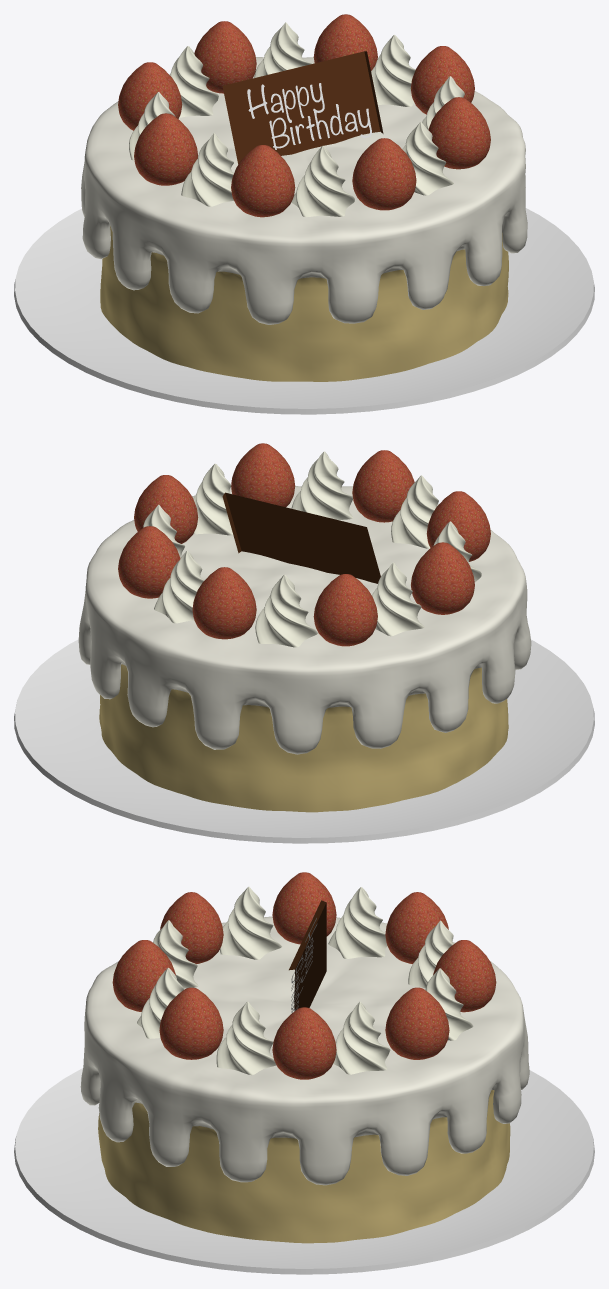
The picture shows the model from 3 angles, top to bottom: view 1: azimuth 30°, elevation 25°; view 2: azimuth 150°, elevation 25°; view 3: azimuth 270°, elevation 25°; orthographic projection.
Parts seen in each view (by area): view 1: cake_4, Circle.008_22, Plane_21, strawberry.004_8, strawberry.003_7, strawberry.005_9, strawberry.002_6, strawberry.007_11, Circle.007_20, Circle_13, strawberry.001_5, strawberry.006_10 (+7 smaller); view 2: cake_4, Circle.008_22, Plane_21, strawberry.006_10, strawberry.005_9, strawberry.007_11, strawberry.008_12, strawberry.003_7, strawberry.002_6, Circle.002_15, strawberry.004_8, strawberry.001_5 (+7 smaller); view 3: cake_4, Circle.008_22, strawberry.001_5, strawberry.008_12, strawberry.002_6, strawberry.005_9, strawberry.007_11, strawberry.004_8, strawberry.003_7, strawberry.006_10, Circle.005_18, Circle_13 (+7 smaller).
Boxes of the visible parts, x1,y1,x2,y2 form: cake_4: [81, 57, 527, 381]; Circle.008_22: [14, 208, 594, 414]; Plane_21: [222, 51, 383, 164]; strawberry.004_8: [231, 145, 295, 217]; strawberry.003_7: [352, 138, 416, 210]; strawberry.005_9: [134, 113, 197, 185]; strawberry.002_6: [428, 97, 490, 169]; strawberry.007_11: [194, 21, 256, 93]; Circle.007_20: [291, 145, 354, 217]; Circle_13: [181, 133, 233, 206]; strawberry.001_5: [410, 46, 474, 114]; strawberry.006_10: [118, 62, 182, 130]; cake_4: [78, 486, 531, 812]; Circle.008_22: [14, 639, 594, 843]; Plane_21: [222, 492, 380, 583]; strawberry.006_10: [313, 574, 377, 646]; strawberry.005_9: [411, 542, 474, 614]; strawberry.007_11: [192, 567, 256, 639]; strawberry.008_12: [118, 526, 180, 598]; strawberry.003_7: [352, 450, 414, 522]; strawberry.002_6: [231, 443, 295, 507]; Circle.002_15: [255, 574, 317, 647]; strawberry.004_8: [426, 491, 490, 561]; strawberry.001_5: [134, 475, 198, 543]; cake_4: [80, 916, 529, 1243]; Circle.008_22: [14, 1068, 594, 1274]; strawberry.001_5: [272, 1007, 336, 1079]; strawberry.008_12: [385, 987, 449, 1059]; strawberry.002_6: [159, 987, 223, 1059]; strawberry.005_9: [272, 872, 336, 944]; strawberry.007_11: [433, 940, 496, 1012]; strawberry.004_8: [160, 892, 223, 963]; strawberry.003_7: [112, 940, 175, 1011]; strawberry.006_10: [385, 892, 448, 964]; Circle.005_18: [216, 1001, 276, 1075]; Circle_13: [219, 886, 281, 959].
Size of the model in its own units: 2.83 by 1.25 by 2.83.
7 materials, 1 textured.
